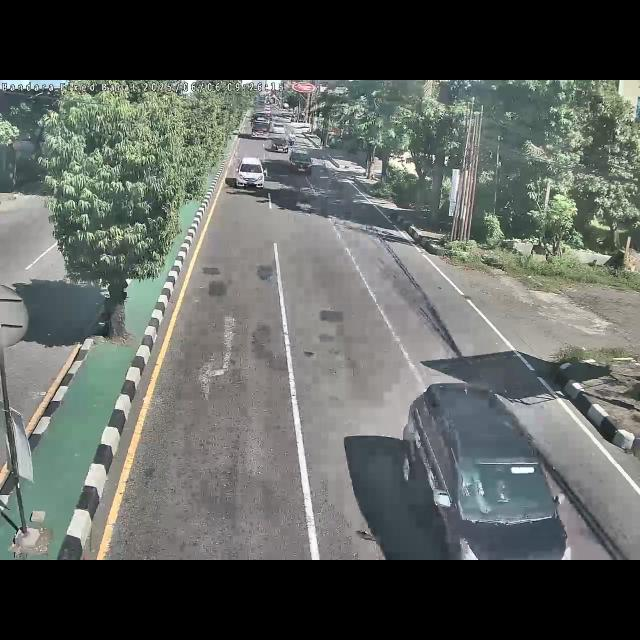Mobil: (400, 380, 572, 560), (236, 157, 268, 193)
